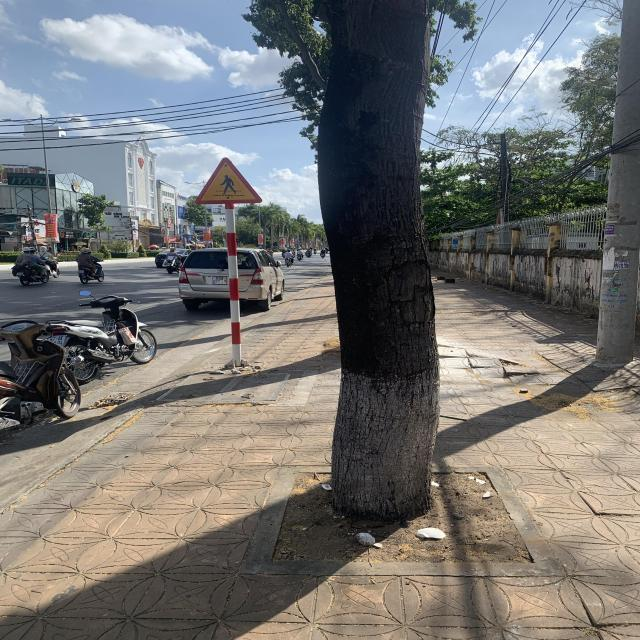Duong_Nguoi_Di_Bo_Sang_Ngang: (194, 157, 262, 204)
